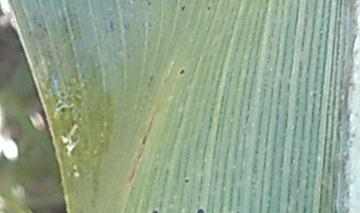tarspot: (176, 67, 187, 77), (194, 207, 206, 213), (182, 176, 191, 184), (178, 4, 187, 12), (142, 1, 153, 7), (205, 4, 213, 12), (149, 209, 160, 213)
